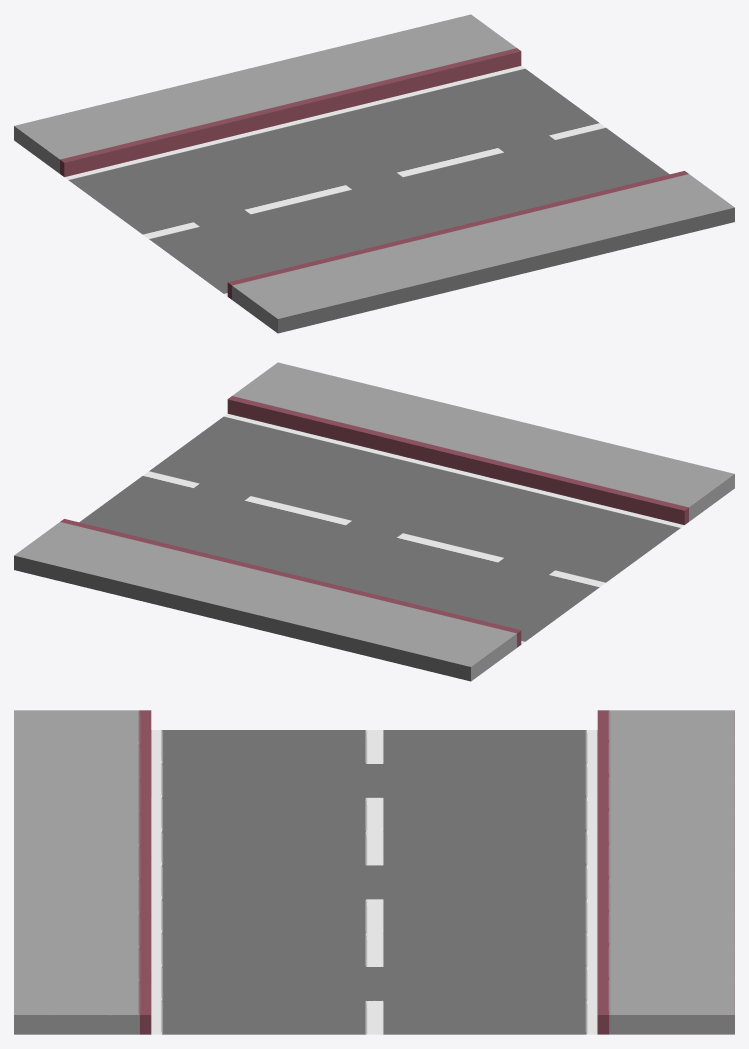
The model's file is street.glb.
3 views of the same model, one above another, from view 1: azimuth 30°, elevation 25°; view 2: azimuth 150°, elevation 25°; view 3: azimuth 270°, elevation 25° (orthographic). The views are drawn at different scales.
Visible parts, largest first — view 1: Plane; view 2: Plane; view 3: Plane.
Part boxes in pixels (bbox=[...]): Plane: bbox=[14, 14, 734, 333]; Plane: bbox=[14, 362, 734, 681]; Plane: bbox=[14, 710, 734, 1034].
Size of the model in its own units: 2 by 0.0604 by 2.
1 material, 1 textured.
